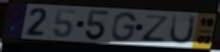2: (24, 7, 49, 38)
5: (83, 9, 111, 42), (52, 8, 77, 39)
G: (109, 12, 138, 43)
U: (167, 14, 198, 46)
Z: (141, 14, 171, 43)
